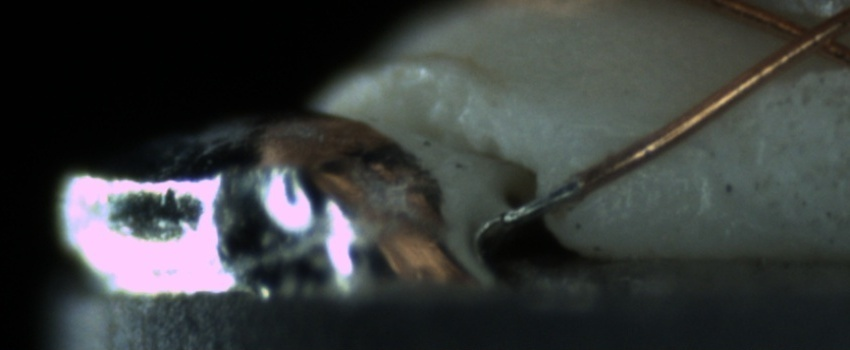CL: (766, 5, 847, 67)
TS: (494, 178, 584, 227)
TTCW: (490, 166, 604, 227)
